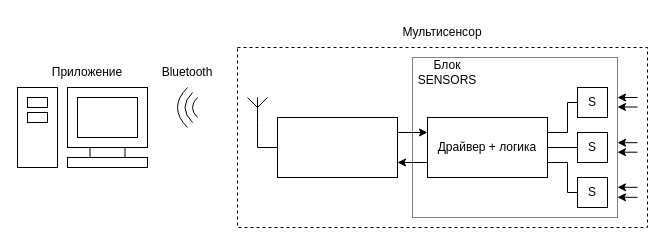
Image size: 665x245. Some labels were removed from this diagram. The shapes that lost their labels are listed below. From the top down, each one's centre as x and y in pixels, then its label:
the point at 107,117: PC
the point at 337,147: Блок MASTER
